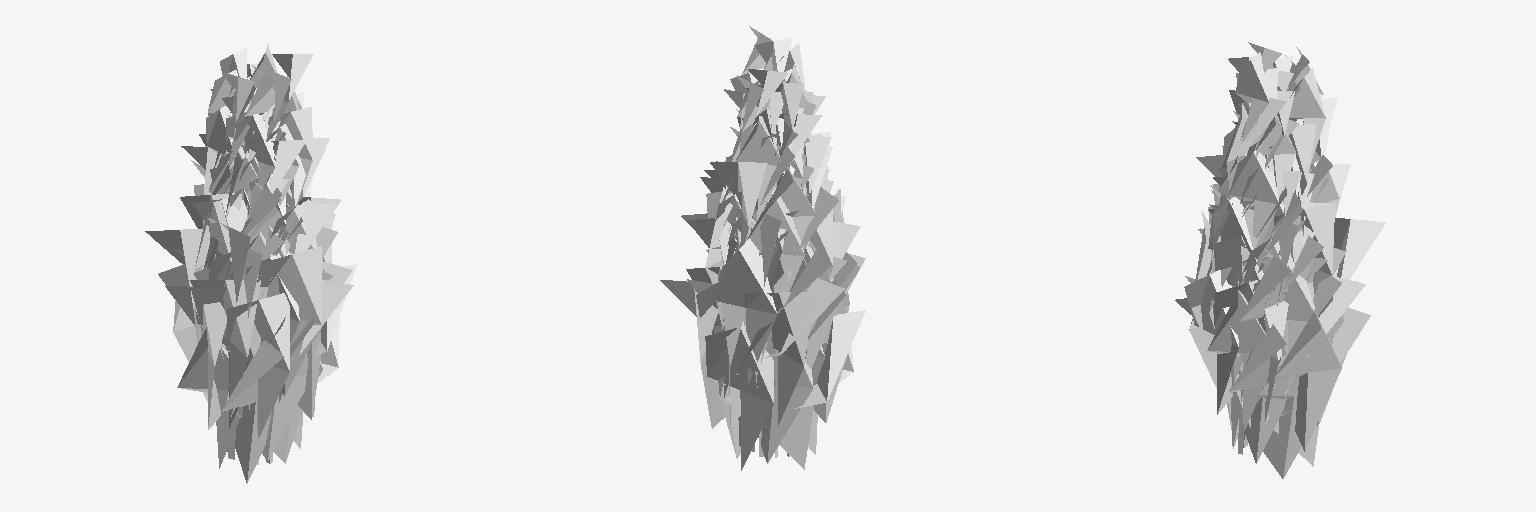
Rendered from Oval-leaved_Privet_Model_0.obj.
The picture shows the model from 3 angles: view 1: azimuth 30°, elevation 25°; view 2: azimuth 150°, elevation 25°; view 3: azimuth 270°, elevation 25°; orthographic projection.
Visible parts, largest first — view 1: Foliage; view 2: Foliage; view 3: Foliage.
Part boxes in pixels (x1,y1,x2,y2): Foliage: (145,44,356,483); Foliage: (660,26,865,470); Foliage: (1175,42,1385,478).
Size of the model in its own units: 1.32 by 3 by 1.38.